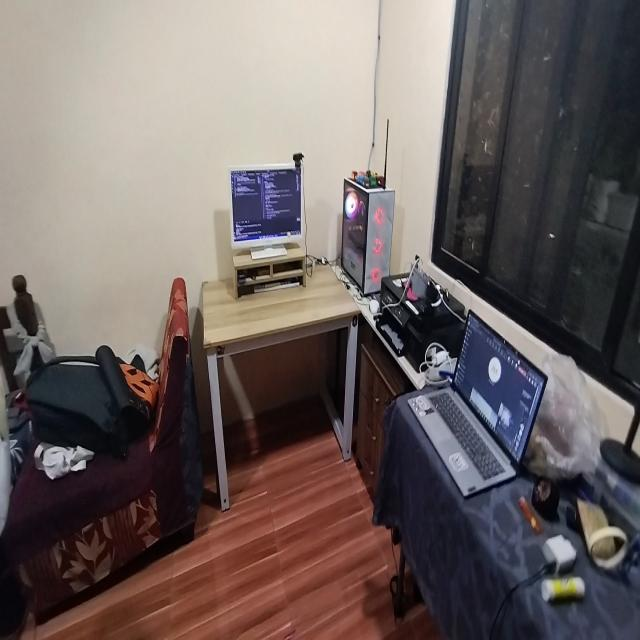table: (198, 252, 363, 507)
